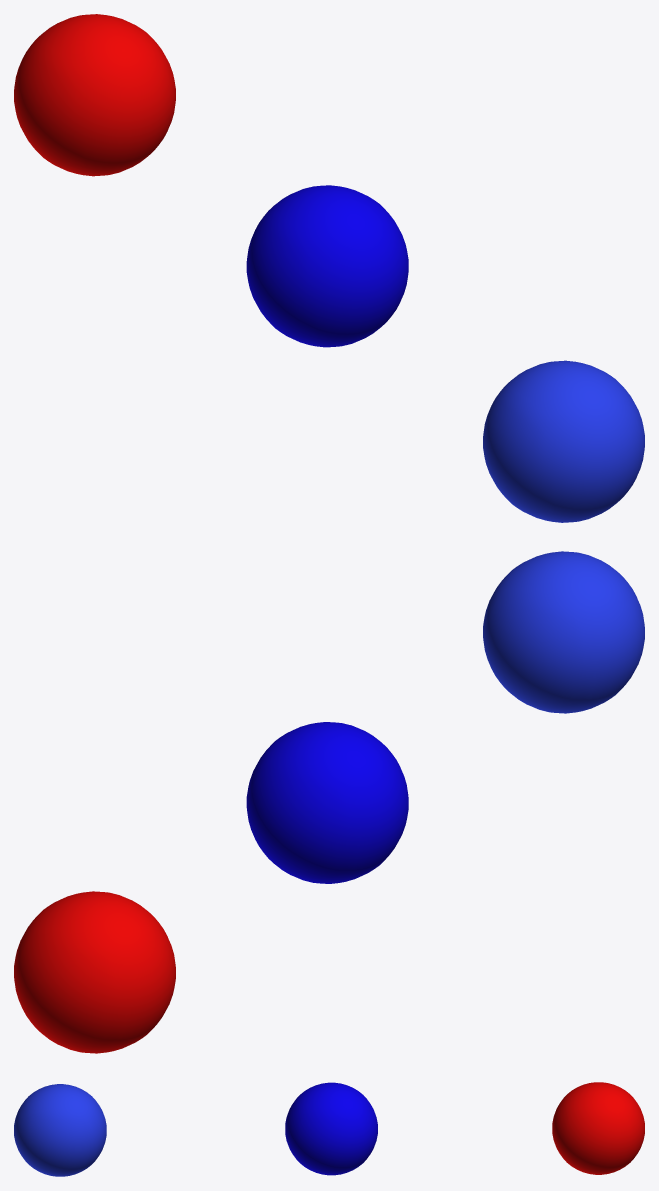
The model's file is Caso(-,-,+).glb.
3 renders of one model, top to bottom at view 1: azimuth 30°, elevation 25°; view 2: azimuth 150°, elevation 25°; view 3: azimuth 270°, elevation 25°, orthographic. The views are drawn at different scales.
Visible parts, largest first — view 1: Carga 2, Carga 3, Carga 1; view 2: Carga 2, Carga 3, Carga 1; view 3: Carga 2, Carga 1, Carga 3.
Part boxes in pixels (bbox=[...]): Carga 2: bbox=[246, 185, 408, 347]; Carga 3: bbox=[14, 14, 175, 176]; Carga 1: bbox=[483, 360, 644, 522]; Carga 2: bbox=[246, 722, 408, 883]; Carga 3: bbox=[14, 891, 175, 1053]; Carga 1: bbox=[483, 551, 644, 713]; Carga 2: bbox=[285, 1082, 377, 1175]; Carga 1: bbox=[14, 1084, 106, 1176]; Carga 3: bbox=[552, 1082, 644, 1174].
Size of the model in its own units: 3.44 by 3.52 by 23.44.
